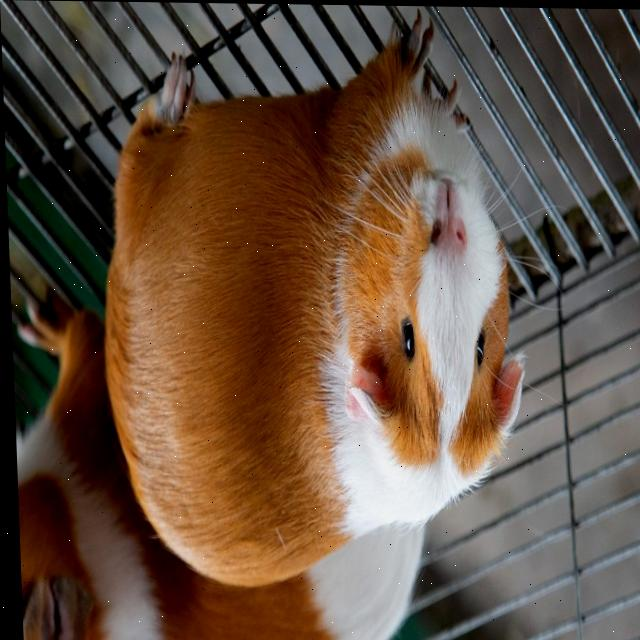guinea pig: (89, 1, 534, 608)
